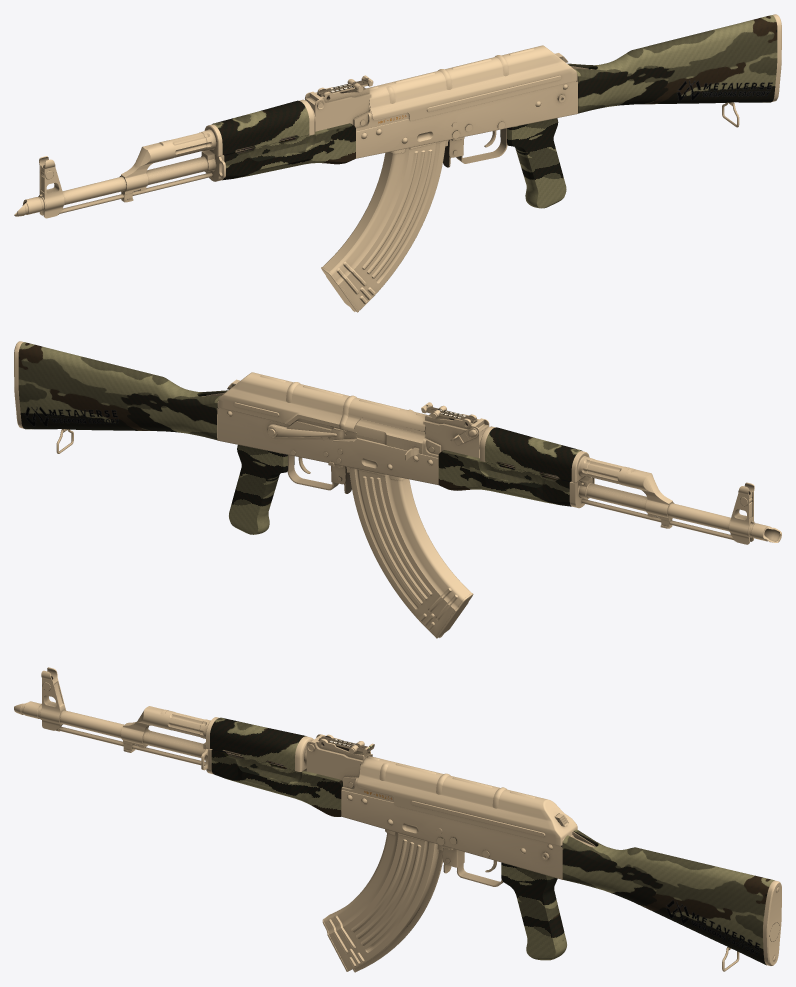
The model's file is MWF-000254.glb.
3 views of the same model, one above another, from view 1: azimuth 30°, elevation 25°; view 2: azimuth 150°, elevation 25°; view 3: azimuth 330°, elevation 25° (orthographic).
Visible parts, largest first — view 1: RECIEVER_RPK, STOCK_Standard, MAG_7.62, HANDGUARD_Standard, BARREL_AKM, GRIP_Wood; view 2: RECIEVER_RPK, STOCK_Standard, MAG_7.62, HANDGUARD_Standard, BARREL_AKM, GRIP_Wood, Bolt, Selector, BARREL_Compensator; view 3: RECIEVER_RPK, STOCK_Standard, MAG_7.62, HANDGUARD_Standard, BARREL_AKM, GRIP_Wood.
Part boxes in pixels (<box>): RECIEVER_RPK: <box>305,45,577,167</box>; STOCK_Standard: <box>567,14,781,113</box>; MAG_7.62: <box>321,140,448,312</box>; HANDGUARD_Standard: <box>212,99,355,180</box>; BARREL_AKM: <box>39,124,225,218</box>; GRIP_Wood: <box>500,118,566,208</box>; RECIEVER_RPK: <box>217,372,489,493</box>; STOCK_Standard: <box>14,341,227,439</box>; MAG_7.62: <box>346,466,473,638</box>; HANDGUARD_Standard: <box>438,426,581,506</box>; BARREL_AKM: <box>569,451,754,544</box>; GRIP_Wood: <box>229,445,294,534</box>; Bolt: <box>354,417,425,460</box>; Selector: <box>264,418,356,441</box>; BARREL_Compensator: <box>747,520,781,542</box>; RECIEVER_RPK: <box>306,734,577,886</box>; STOCK_Standard: <box>562,829,781,965</box>; MAG_7.62: <box>322,829,442,972</box>; HANDGUARD_Standard: <box>210,717,342,816</box>; BARREL_AKM: <box>40,667,219,774</box>; GRIP_Wood: <box>501,862,566,960</box>.
Size of the model in its own units: 0.8815 by 0.2536 by 0.0638.
6 materials, 6 textured.
